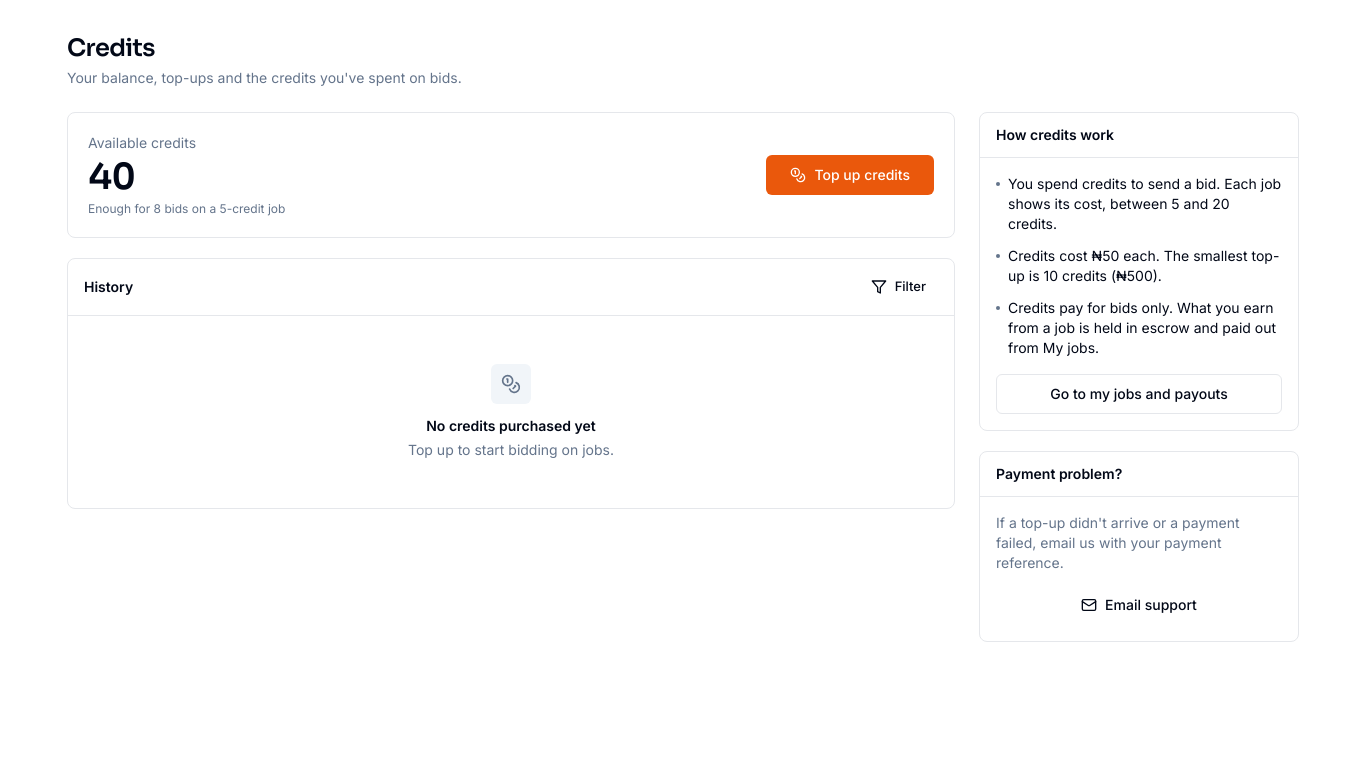
Bizpal › opens the top-up modal when 'Top up credits' is clicked
Click the button "Top up credits".
click(850, 175)  # box x1=766 y1=155 x2=934 y2=195
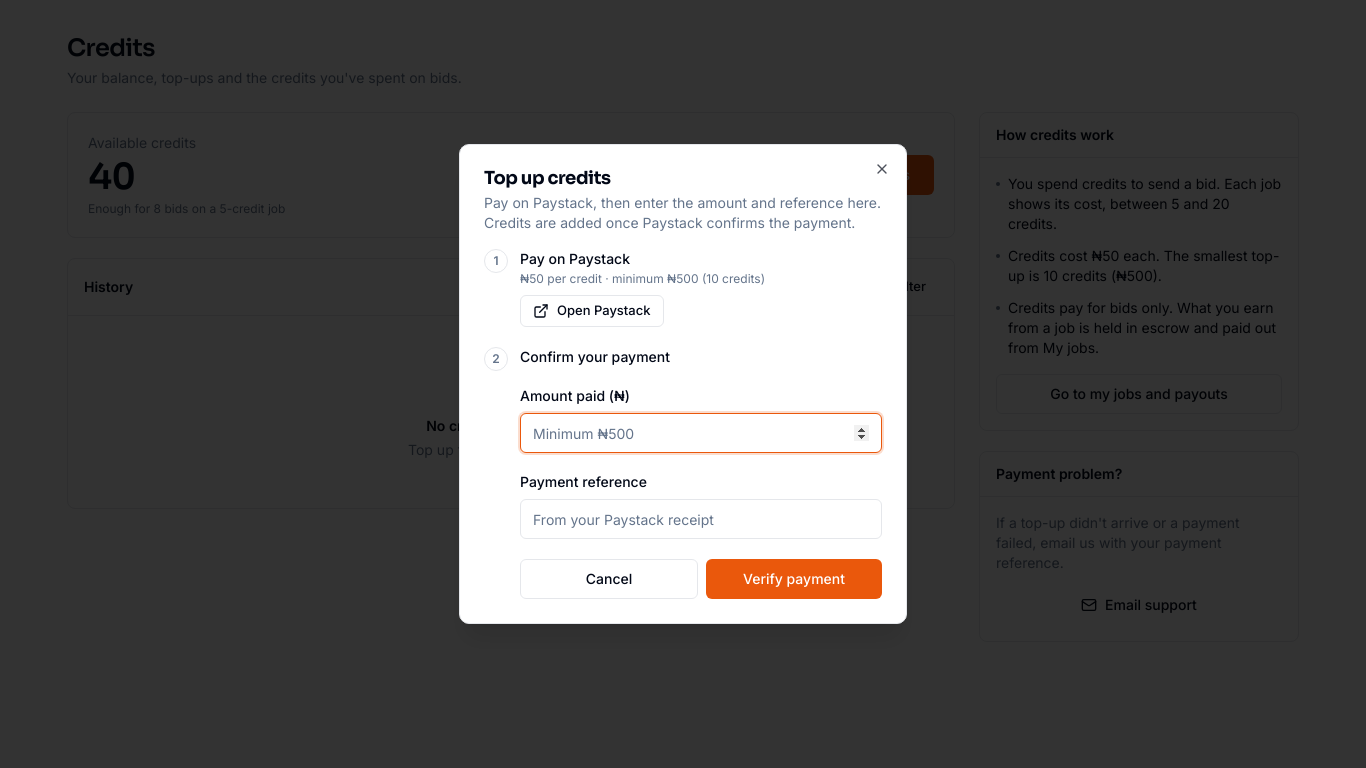
Check: the heading "Top up credits" is shown, box x1=484 y1=167 x2=610 y2=189
